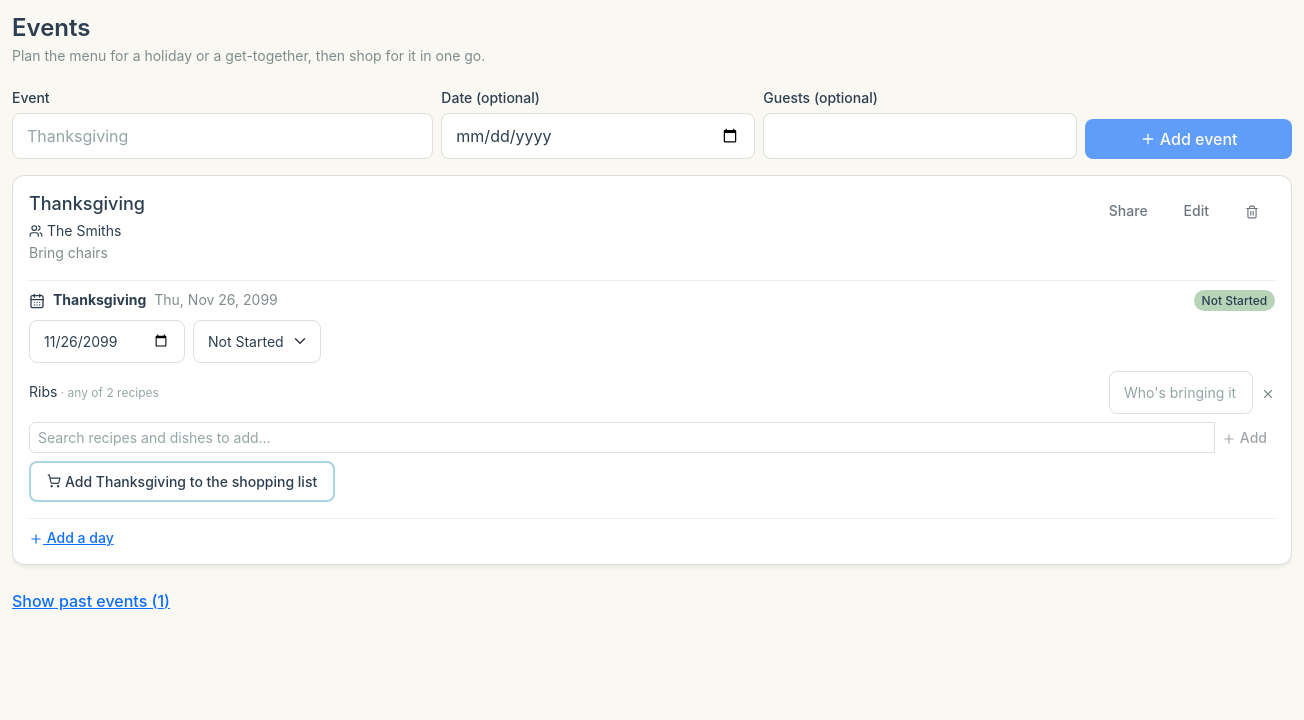
Test case: offers sharing in your own kitchen
Click the button "Share" at x=1128, y=211, box [1093, 192, 1164, 229]
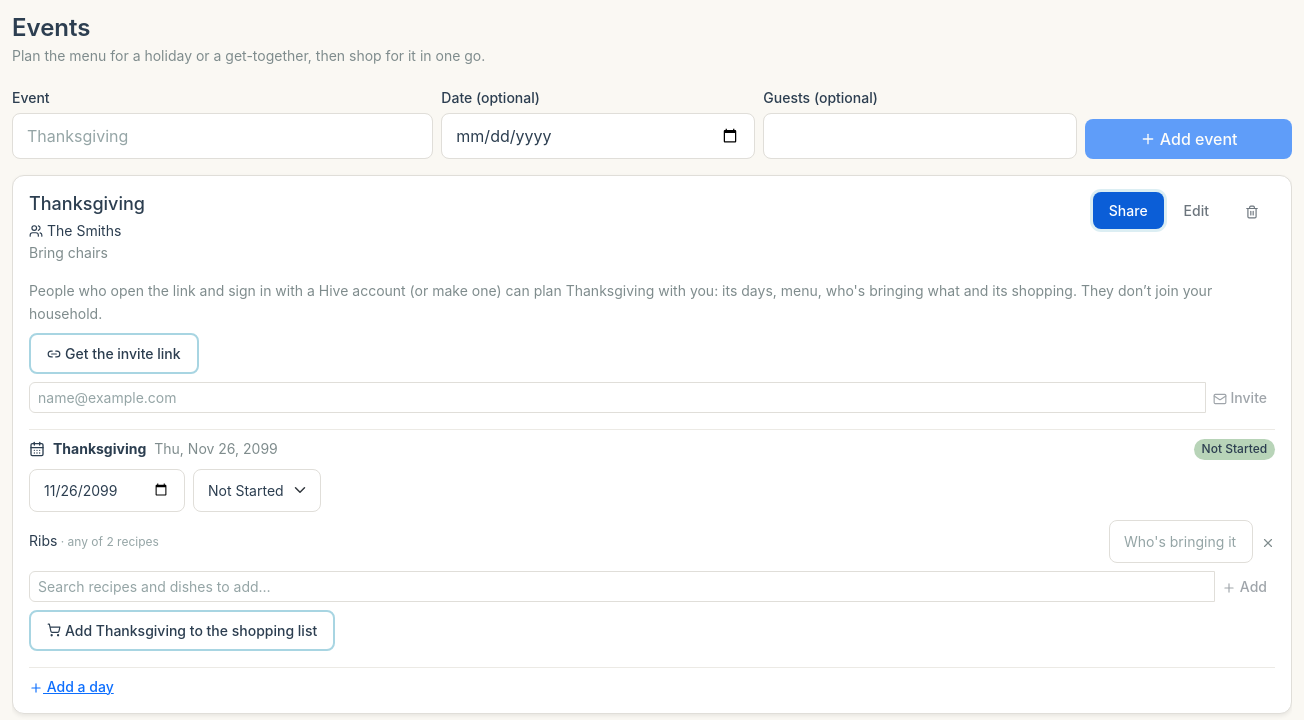
Click the button "Get the invite link" at x=114, y=354, box [29, 333, 198, 374]
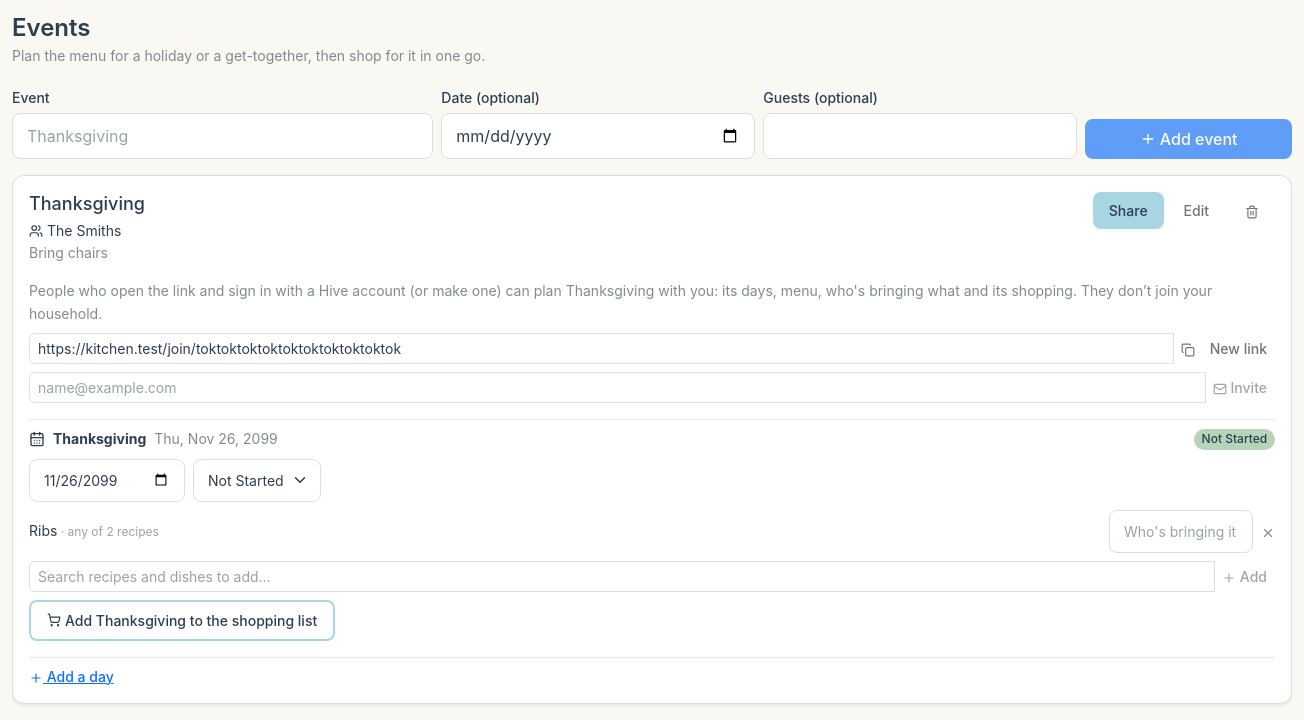
Check: the button named "Copy" is shown, box [1173, 333, 1203, 364]
